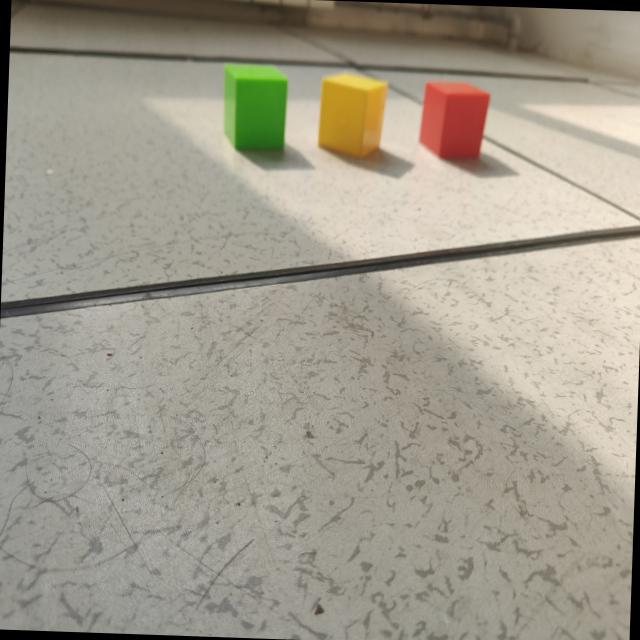green: (223, 66, 289, 158)
red: (418, 81, 490, 165)
yellow: (317, 72, 387, 161)
